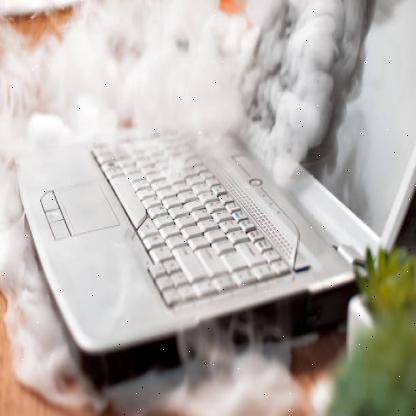smoke: (0, 0, 375, 416)
